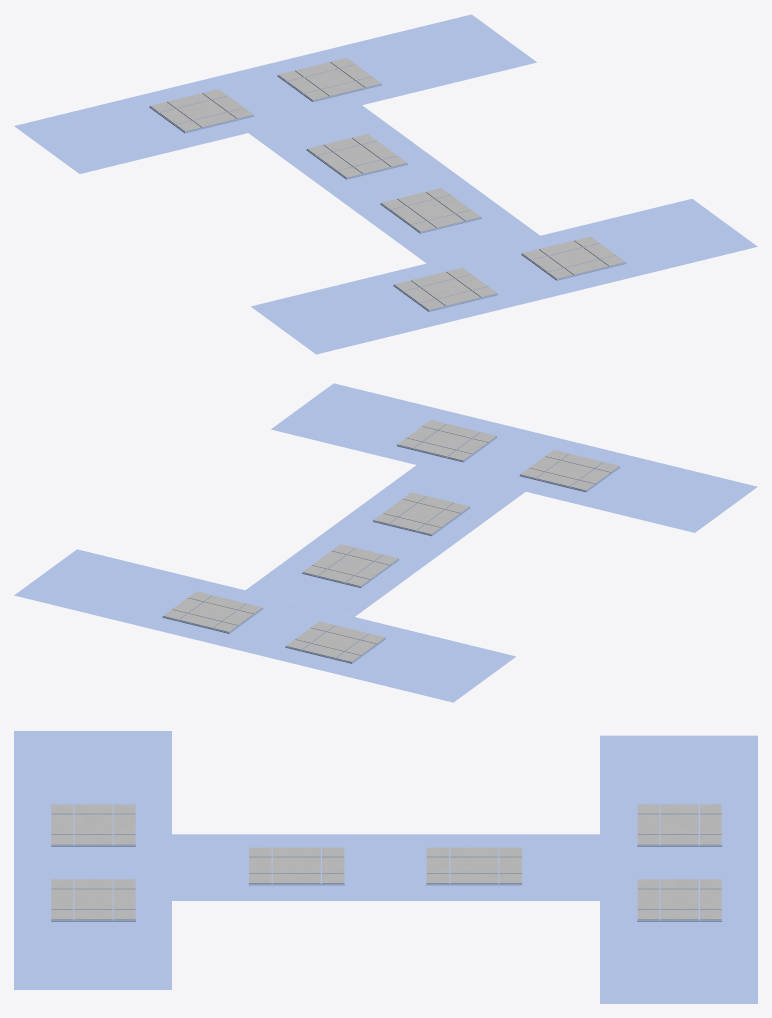
Rendered from Cieling 1.fbx.
The picture shows the model from 3 angles, top to bottom: view 1: azimuth 30°, elevation 25°; view 2: azimuth 150°, elevation 25°; view 3: azimuth 270°, elevation 25°; orthographic projection. The views are drawn at different scales.
Parts seen in each view (by area): view 1: Cieling_3, LightSources; view 2: Cieling_3, LightSources; view 3: Cieling_3, LightSources.
Boxes of the visible parts, x1,y1,x2,y2 form: Cieling_3: [14, 14, 757, 354]; LightSources: [150, 58, 624, 309]; Cieling_3: [14, 383, 757, 702]; LightSources: [163, 420, 618, 661]; Cieling_3: [14, 731, 757, 1003]; LightSources: [51, 804, 721, 919].
Bounding box in the file's own units: 2531 × 9.6 × 2918.
Materials: 1 (1 with a texture image).
